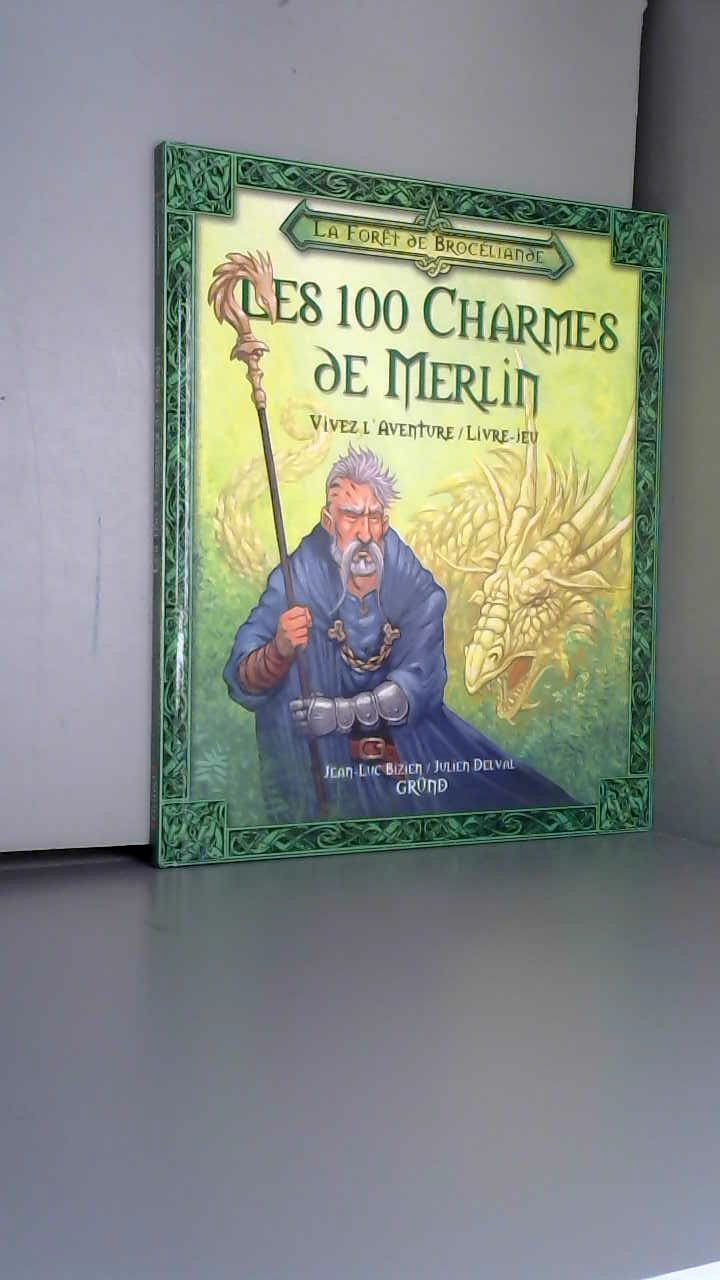book: (120, 110, 716, 889)
